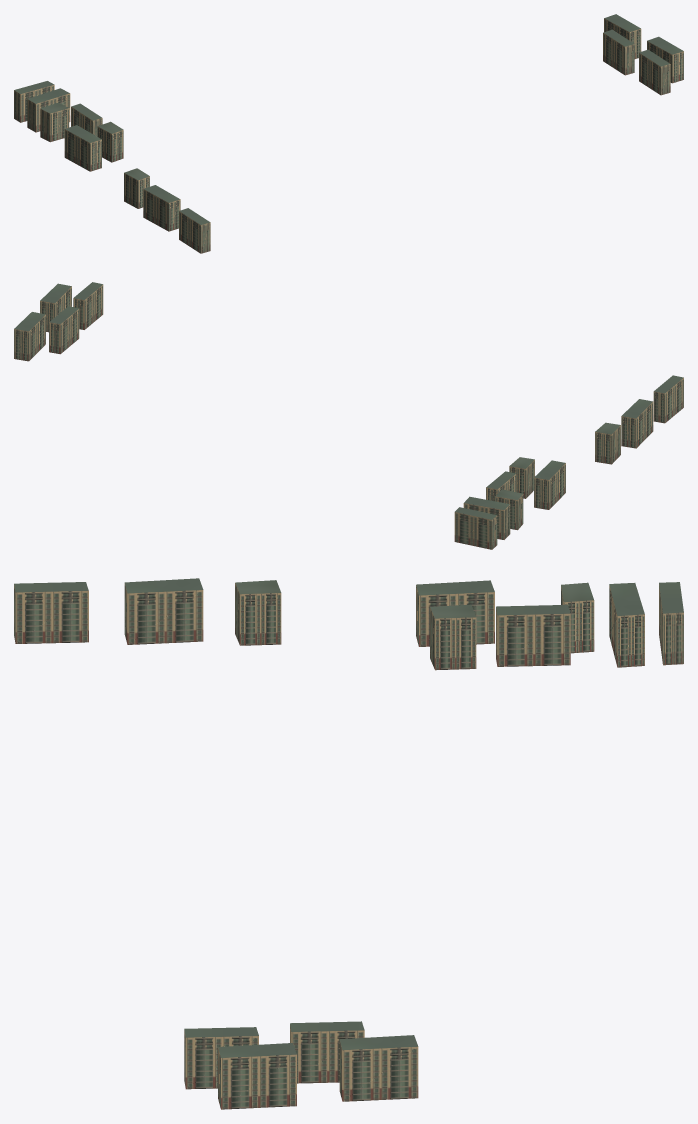
File: build01.FBX
The picture shows the model from 3 angles, top to bottom: view 1: azimuth 30°, elevation 25°; view 2: azimuth 150°, elevation 25°; view 3: azimuth 270°, elevation 25°; orthographic projection. The views are drawn at different scales.
Visible parts, largest first — view 1: build01; view 2: build01; view 3: build01.
Part boxes in pixels (x1=…): build01: x1=14, y1=14, x2=683, y2=253; build01: x1=14, y1=282, x2=683, y2=549; build01: x1=14, y1=578, x2=683, y2=1109.
Size of the model in its own units: 24676 by 1238 by 14565.
